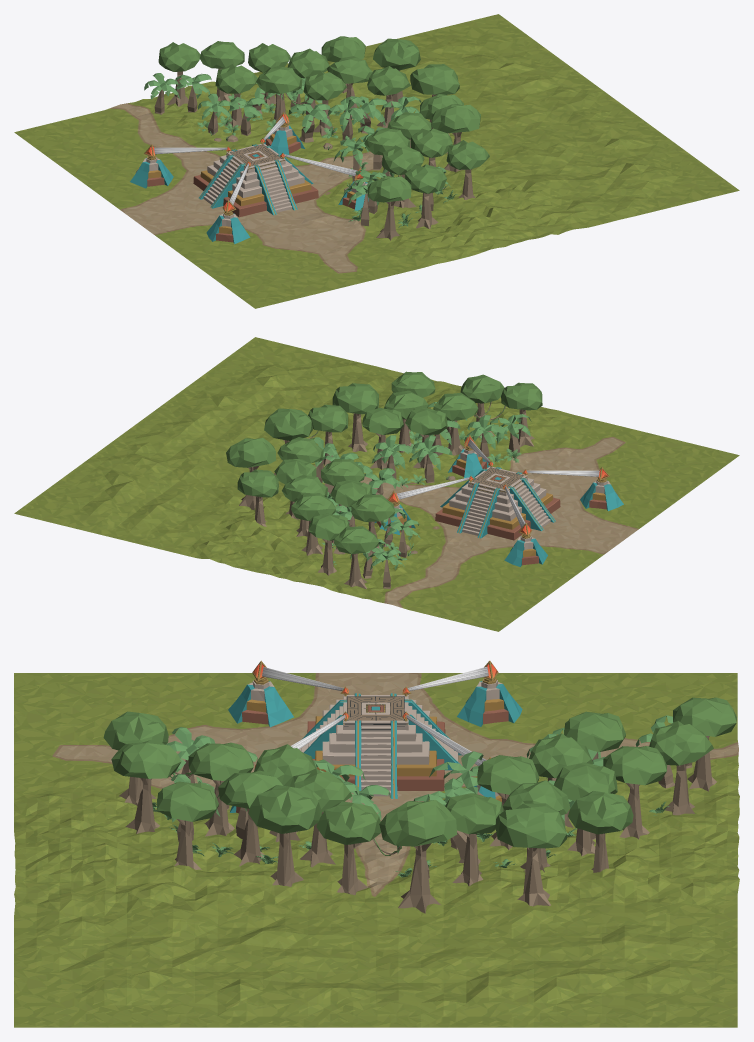
The picture shows the model from 3 angles, top to bottom: view 1: azimuth 30°, elevation 25°; view 2: azimuth 150°, elevation 25°; view 3: azimuth 270°, elevation 25°; orthographic projection. The views are drawn at different scales.
Visible parts, largest first — view 1: ground, bgTrees, bgTrees02, templeBase, templeStairs2, templeStairs, templeTopMain, templeFocuser, templeFocuser4, templeFocuser3; view 2: ground, bgTrees, bgTrees02, templeBase, templeStairs4, templeStairs, templeTopMain, templeFocuser4, templeFocuser, templeFocuser2; view 3: ground, bgTrees, bgTrees02, templeBase, templeStairs3, templeTopMain, templeFocuser4, templeFocuser, templeStairs4, templeStairs2.
Part boxes in pixels (x1,y1,x2,y2): ground: (14, 14, 739, 308); bgTrees: (144, 36, 459, 150); bgTrees02: (333, 94, 489, 240); templeBase: (193, 155, 318, 217); templeStairs2: (254, 159, 297, 215); templeStairs: (198, 154, 245, 208); templeTopMain: (226, 143, 285, 173); templeFocuser: (206, 200, 250, 244); templeFocuser4: (130, 144, 173, 188); templeFocuser3: (263, 112, 304, 154); ground: (14, 337, 739, 631); bgTrees: (226, 408, 420, 588); bgTrees02: (308, 371, 542, 487); templeBase: (435, 478, 560, 540); templeStairs4: (457, 483, 500, 538); templeStairs: (508, 477, 555, 531); templeTopMain: (468, 466, 527, 495); templeFocuser4: (504, 523, 547, 566); templeFocuser: (580, 467, 623, 511); templeFocuser2: (448, 435, 489, 478); ground: (14, 673, 739, 1027); bgTrees: (379, 697, 736, 913); bgTrees02: (103, 711, 401, 895); templeBase: (307, 699, 445, 790); templeStairs3: (355, 720, 397, 798); templeTopMain: (339, 695, 412, 731); templeFocuser4: (457, 660, 522, 726); templeFocuser: (228, 660, 293, 727); templeStairs4: (404, 699, 461, 770); templeStairs2: (299, 700, 346, 758).
Size of the model in its own units: 151 by 21.21 by 130.
4 materials, 4 textured.
